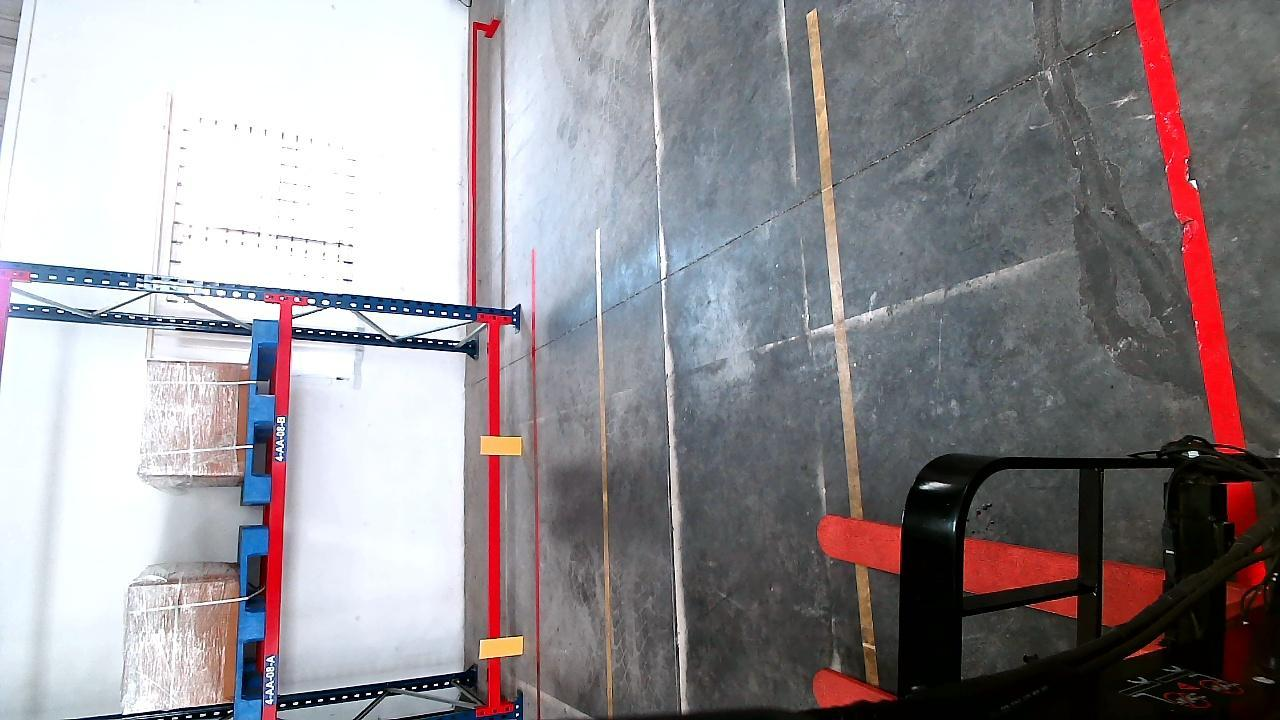red_line: (1127, 2, 1251, 447)
yellow_line: (799, 6, 864, 519), (594, 265, 618, 705)
